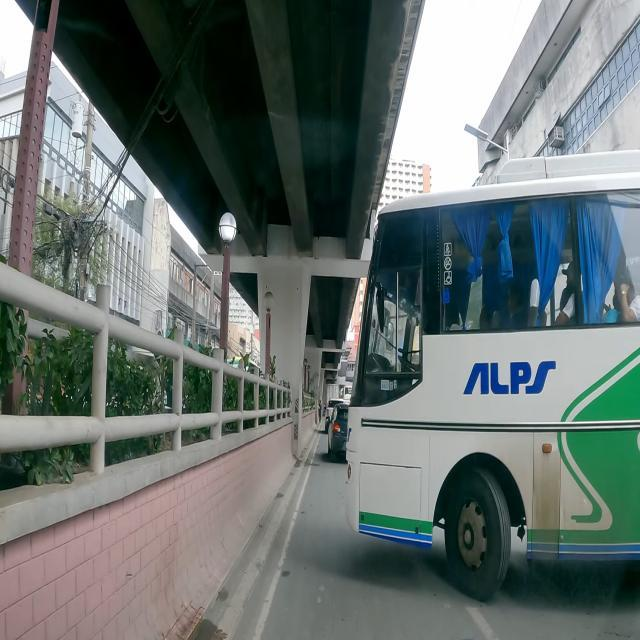bus: (346, 150, 640, 601)
car: (326, 403, 349, 461)
truck: (326, 384, 339, 408)
